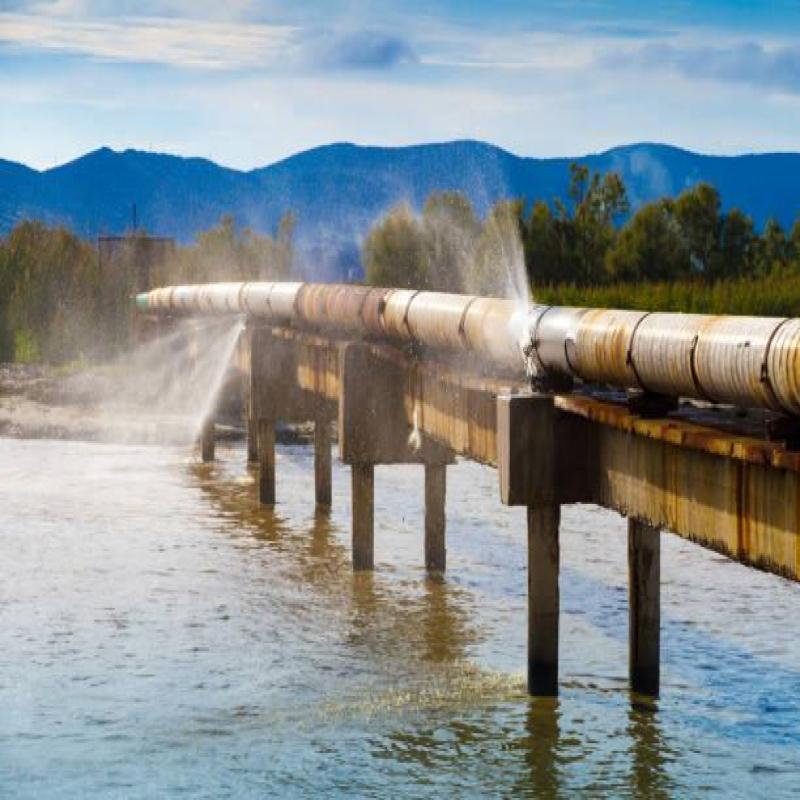Fracture: (498, 262, 559, 428), (203, 288, 269, 369)
